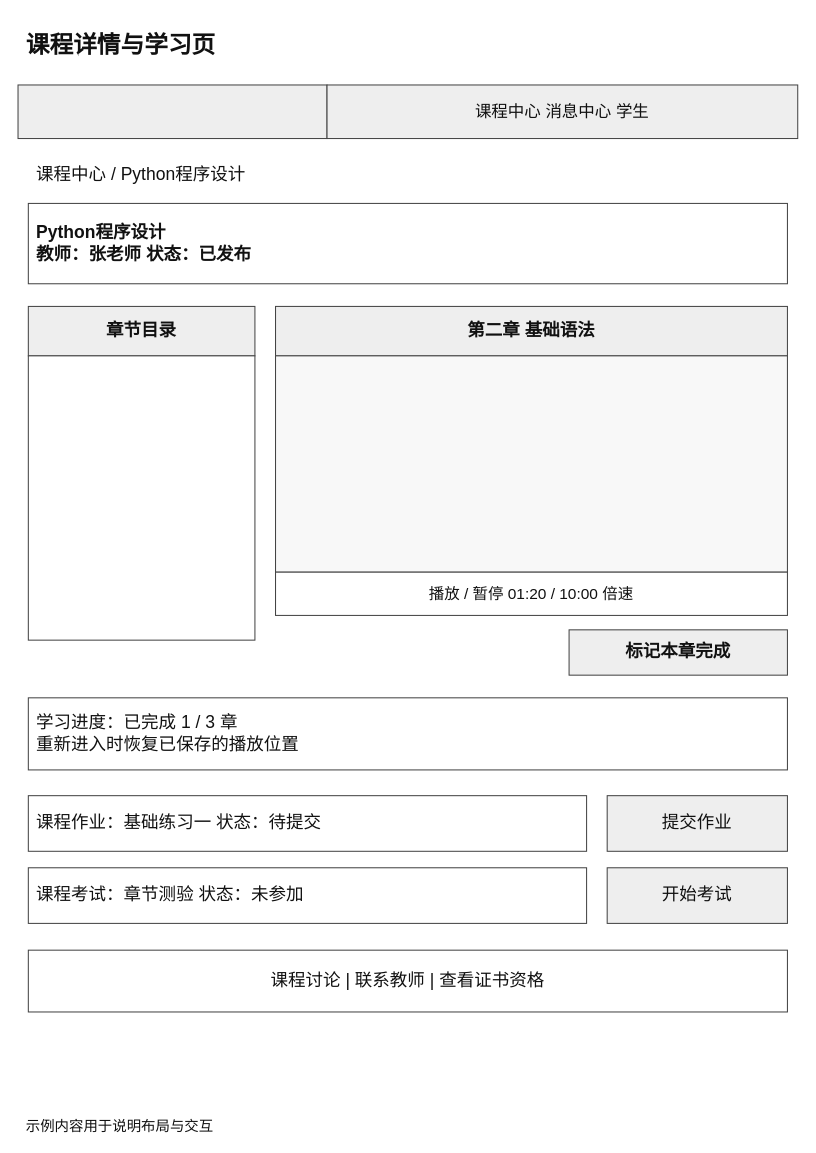
Some shapes in this 816 by 1153 pixel diagram are drawn without their labels. The shapes that lost their labels are listed below. From the top down, each one's box as (x1, y1, x2, y2) in pixels, then its label:
(17, 84, 327, 139): 校园在线学习平台
(274, 355, 787, 572): 学习内容区域 视频播放 / 文档阅读
(27, 355, 255, 640): 已完成 第一章 课程介绍 当前章 第二章 基础语法 未完成 第三章 函数与模块
